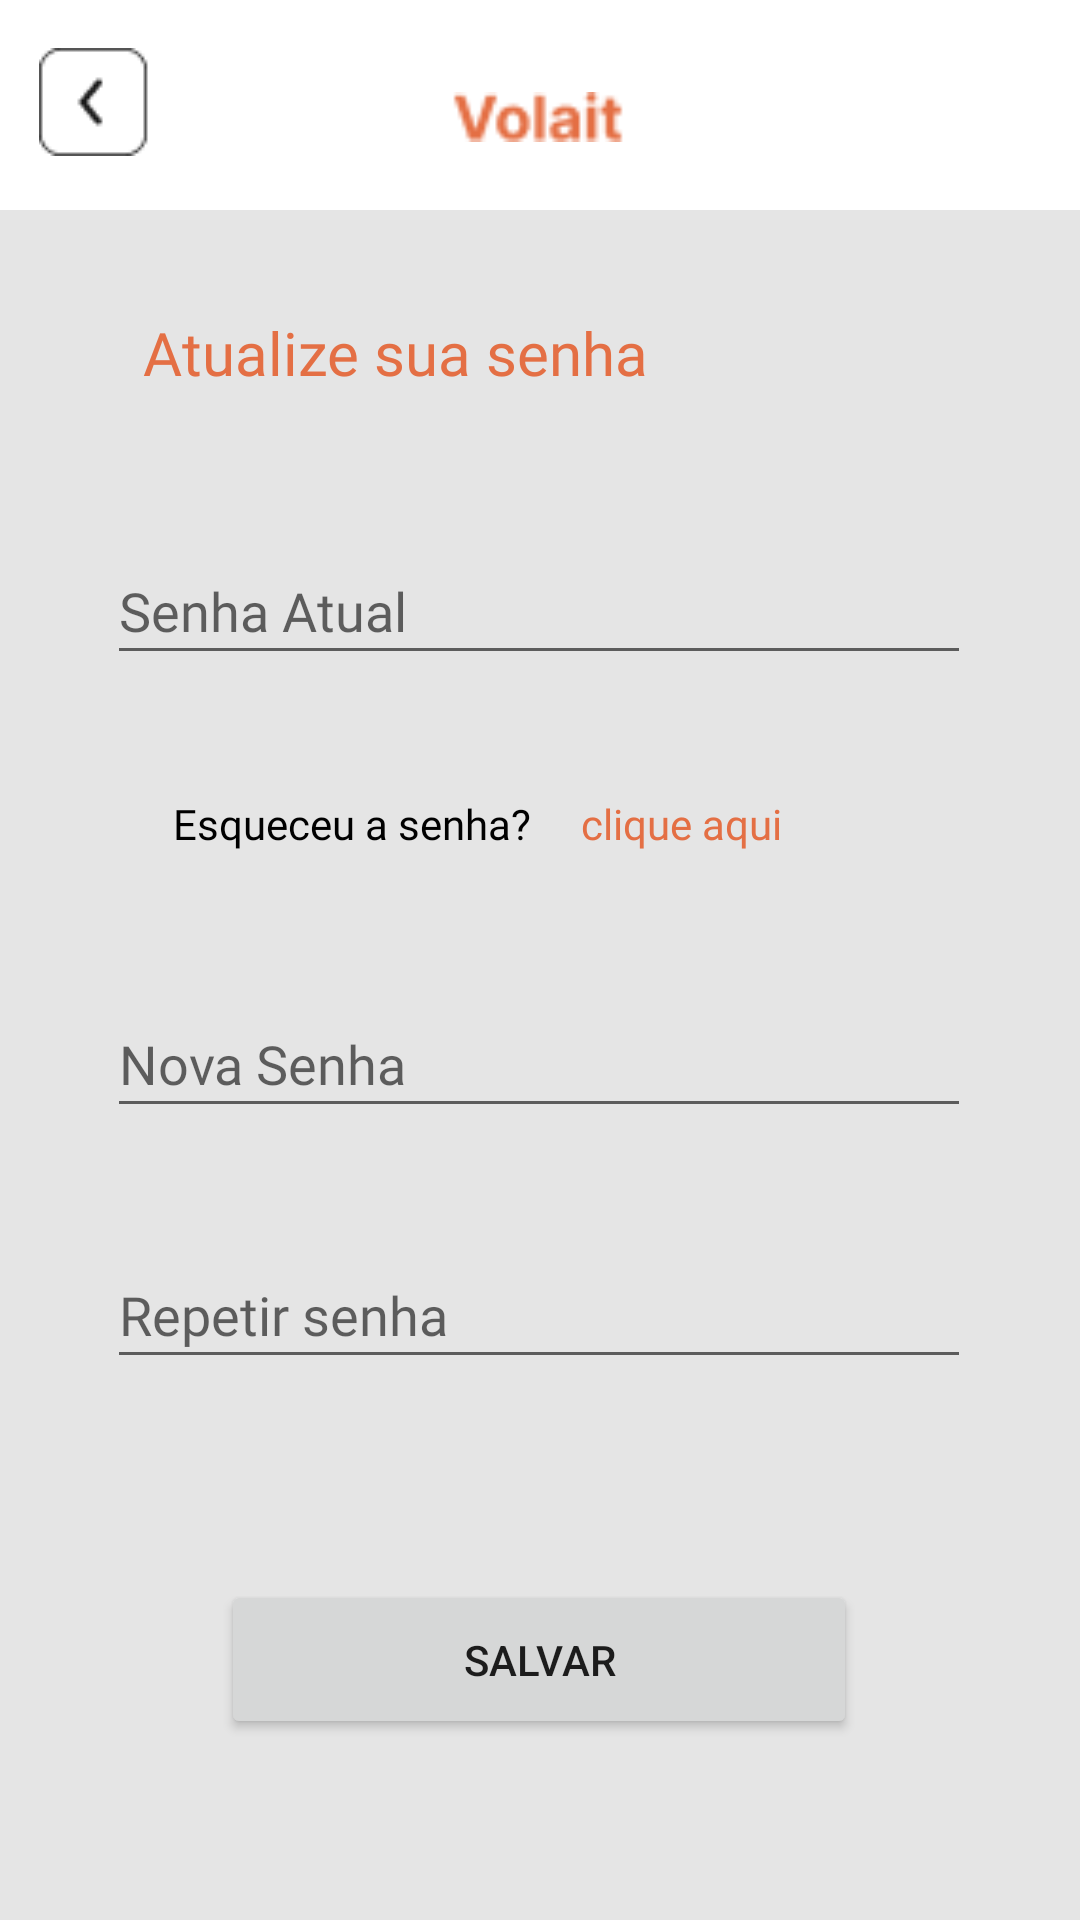

Locate icon controls on the screen. Image size 1080×1920, boxes as (x1, y1, x2, y2).
setinha: (39, 48, 148, 156)
